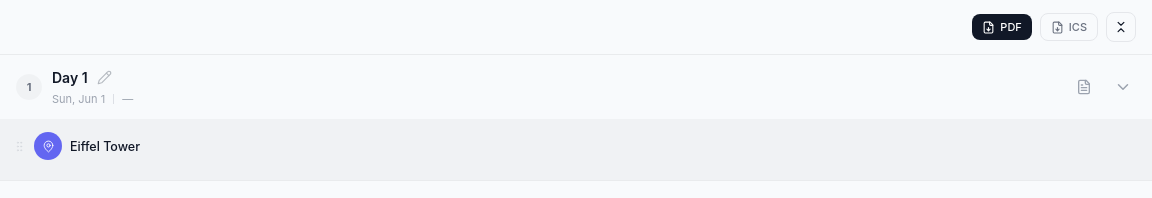
it: DayPlanSidebar › FE-PLANNER-DAYPLAN-007: clicking chevron collapses that day
This screenshot has width=1152, height=198.
Click the 6th button: x=1123, y=87 [1108,72,1138,102]
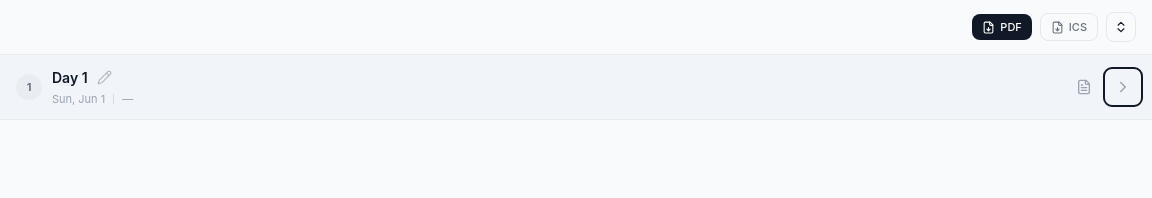
Now the text "Eiffel Tower" is gone
